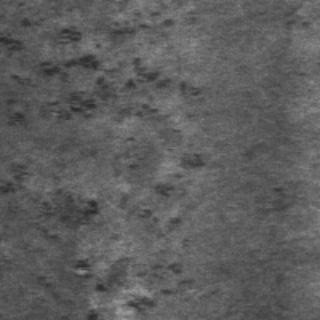rolled pit: (0, 0, 200, 121), (36, 179, 190, 315)
